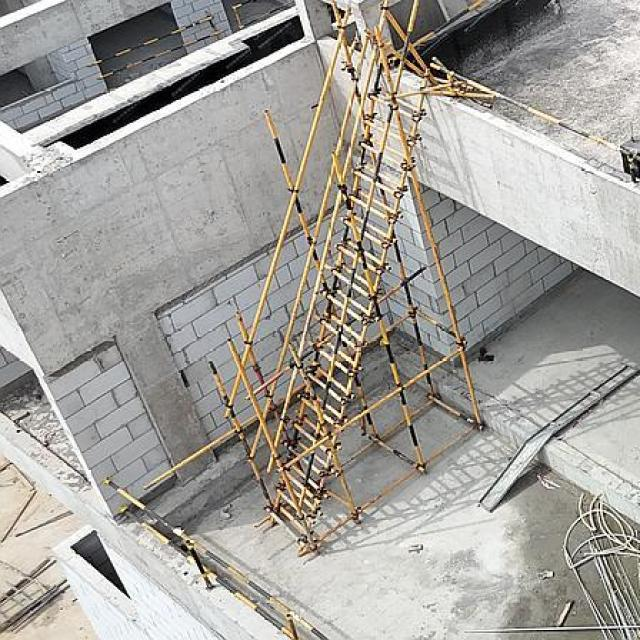edge_guardrail: (104, 470, 333, 640), (428, 61, 640, 182), (90, 14, 230, 80), (412, 0, 487, 49), (231, 0, 295, 30)
